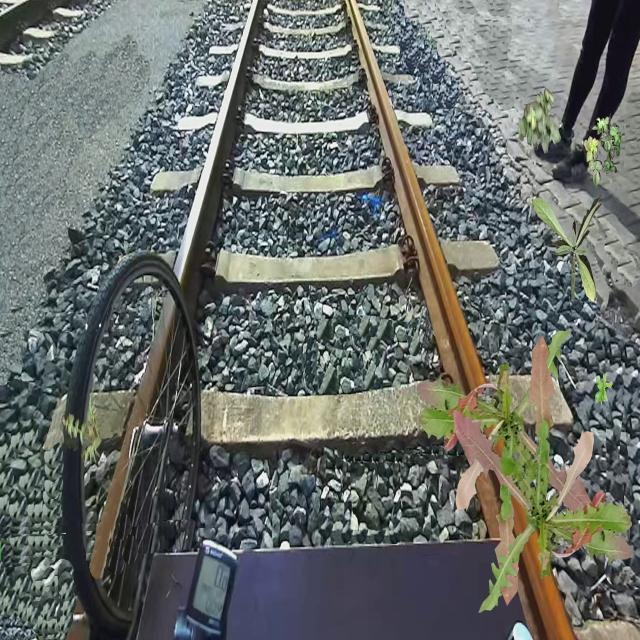Plant: (417, 329, 597, 607), (454, 335, 634, 613), (533, 196, 604, 304), (61, 394, 102, 466), (518, 88, 562, 154), (584, 113, 622, 186), (595, 374, 612, 406)
